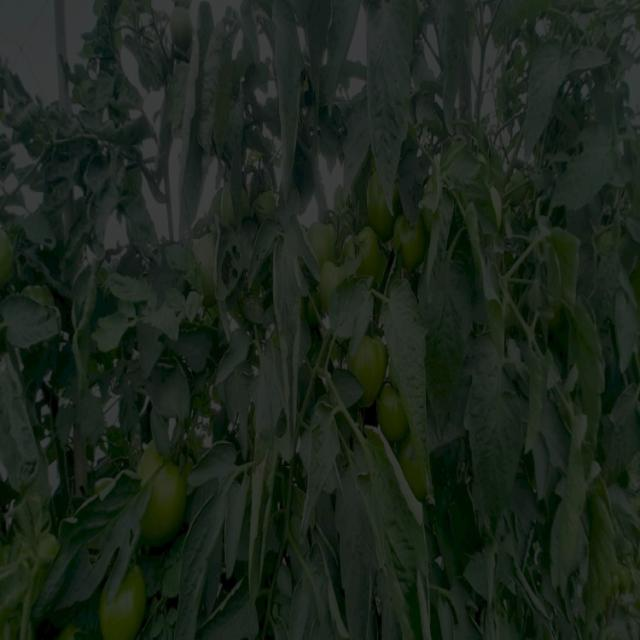tomato: (61, 564, 154, 640), (143, 436, 197, 548), (193, 226, 237, 314), (225, 179, 289, 223), (1, 229, 31, 298), (310, 268, 350, 317), (352, 331, 387, 385), (401, 442, 432, 497), (349, 232, 387, 275), (401, 214, 428, 272), (167, 10, 201, 52), (370, 172, 395, 228), (382, 394, 410, 440), (506, 167, 538, 206), (307, 215, 335, 259), (612, 564, 636, 595), (599, 223, 619, 259)
